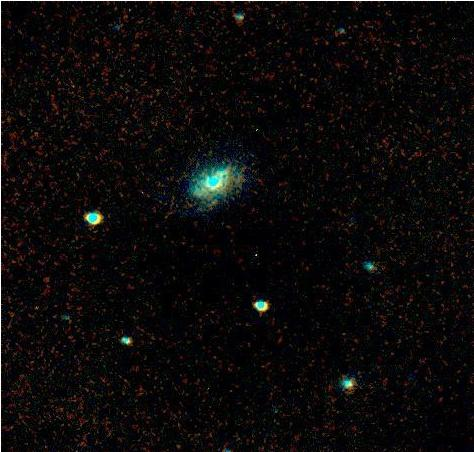star: (376, 59, 406, 89)
